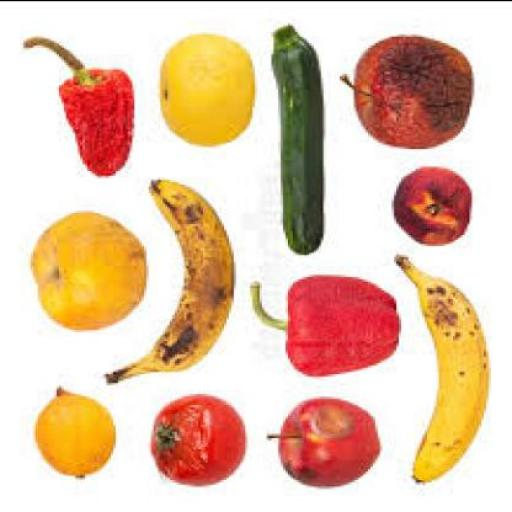biodegradable: (98, 178, 234, 384), (391, 254, 484, 486), (22, 38, 134, 179), (248, 276, 396, 380), (335, 36, 470, 150), (26, 212, 144, 333), (269, 27, 321, 256), (158, 37, 251, 146), (264, 399, 377, 488), (146, 397, 242, 485), (33, 386, 116, 482), (389, 167, 468, 245)
